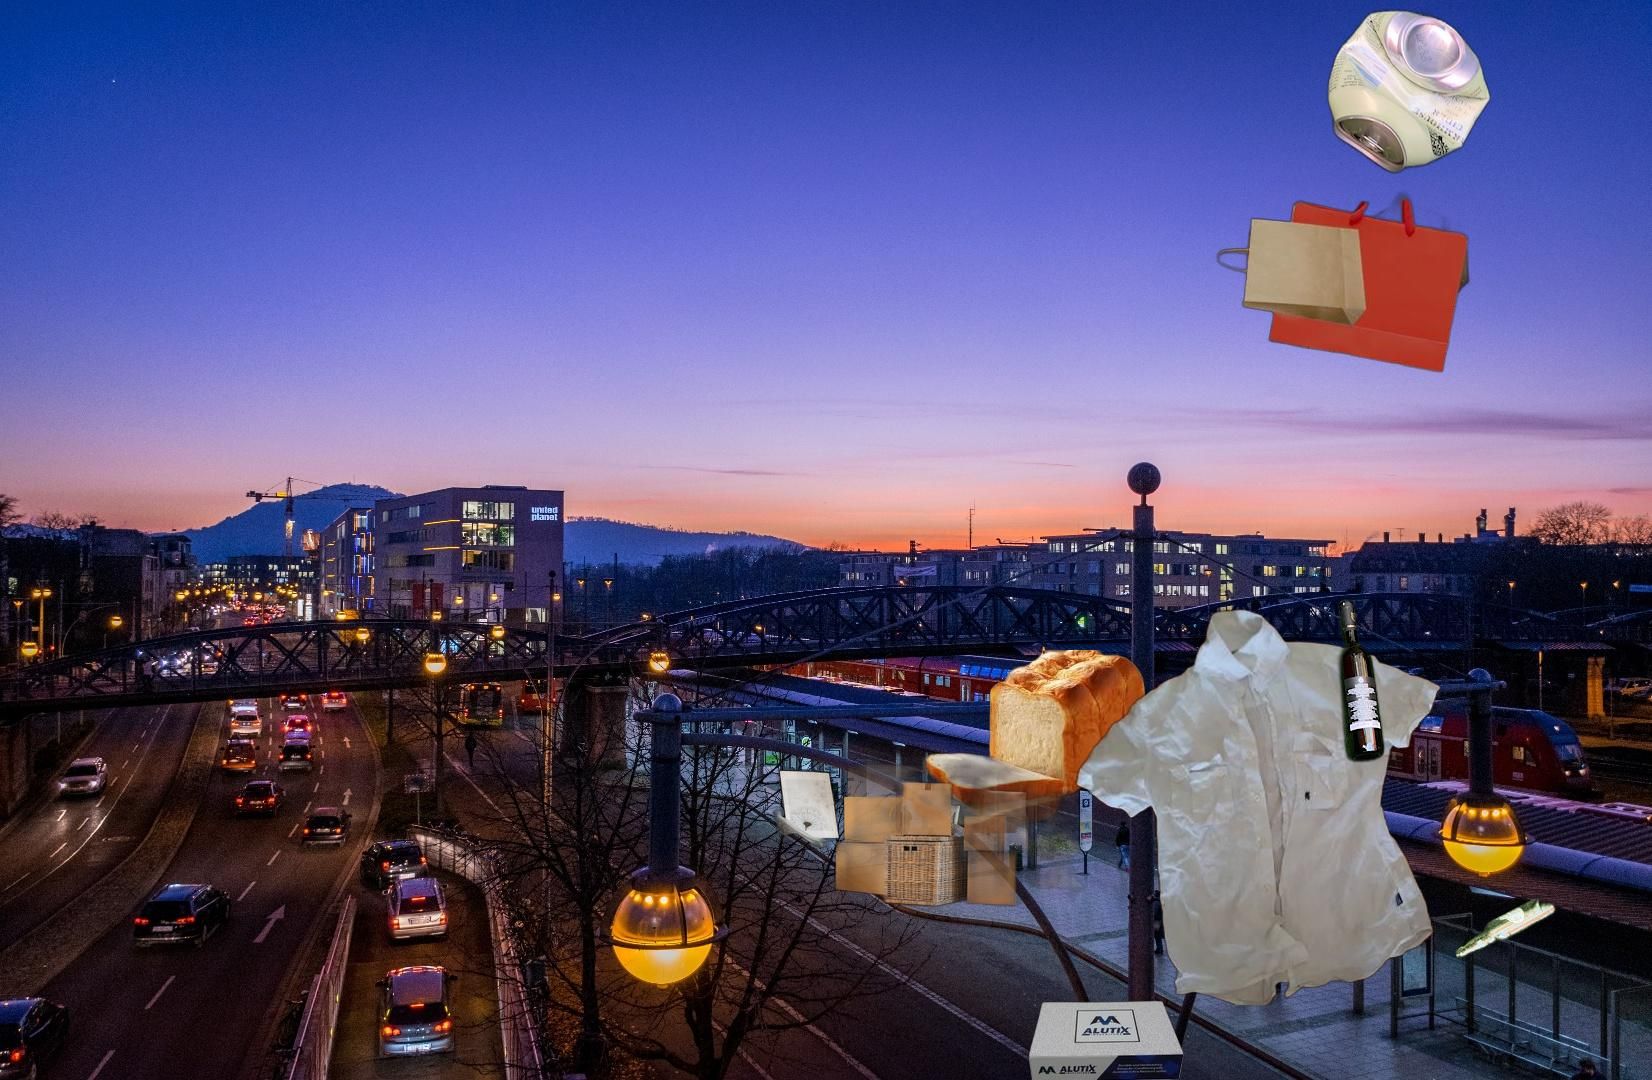biological: (889, 650, 1147, 833)
clothes: (1071, 606, 1445, 1005)
glass: (1334, 557, 1616, 1080)
metal-cans: (1324, 4, 1494, 178)
paper-bag: (1213, 156, 1472, 374)
trashbox-cardboard: (763, 759, 1123, 946), (1026, 998, 1187, 1080)
